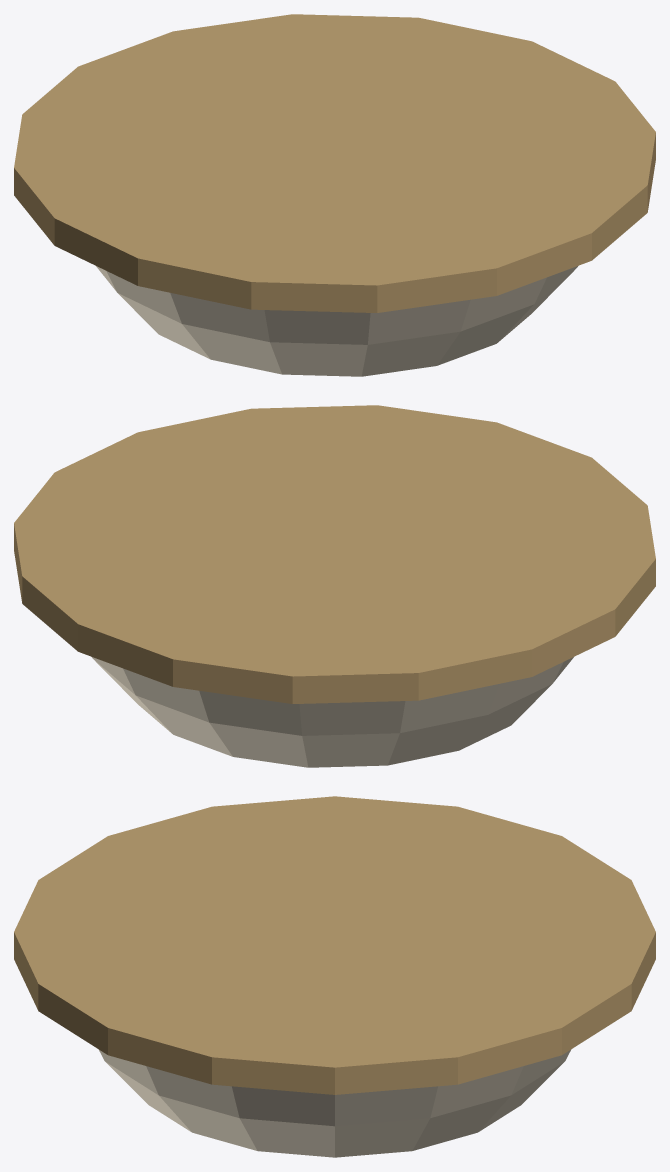
File: corridor_ceiling_rose.glb
The picture shows the model from 3 angles, top to bottom: view 1: azimuth 30°, elevation 25°; view 2: azimuth 150°, elevation 25°; view 3: azimuth 270°, elevation 25°; orthographic projection.
Visible parts, largest first — view 1: corridor_ceiling_rose; view 2: corridor_ceiling_rose; view 3: corridor_ceiling_rose.
Boxes of the visible parts, x1=… form: corridor_ceiling_rose: x1=14, y1=14, x2=655, y2=376; corridor_ceiling_rose: x1=14, y1=405, x2=655, y2=767; corridor_ceiling_rose: x1=14, y1=796, x2=655, y2=1157.
Size of the model in its own units: 0.34 by 0.107 by 0.34.
